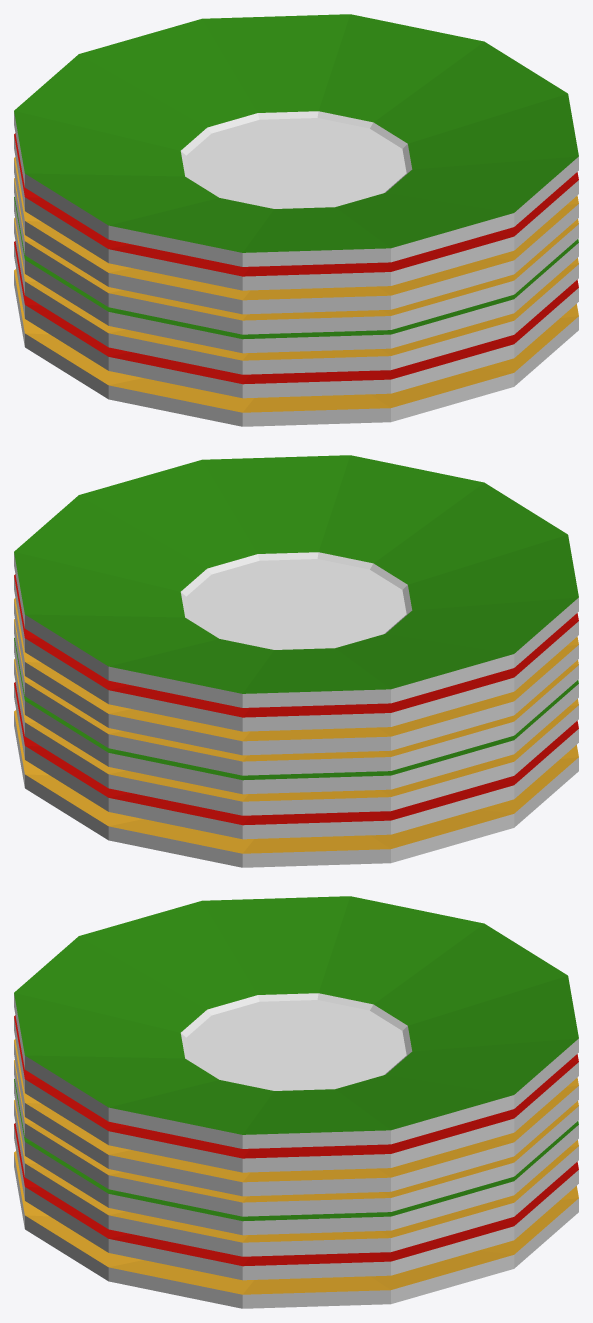
File: C_Plates_Medium.fbx
3 renders of one model, top to bottom at view 1: azimuth 30°, elevation 25°; view 2: azimuth 150°, elevation 25°; view 3: azimuth 270°, elevation 25°, orthographic.
Parts seen in each view (by area): view 1: C_Plates_Medium; view 2: C_Plates_Medium; view 3: C_Plates_Medium.
Part boxes in pixels (x1,y1,x2,y2): C_Plates_Medium: [14, 14, 578, 426]; C_Plates_Medium: [14, 455, 578, 867]; C_Plates_Medium: [14, 896, 578, 1308].
Size of the model in its own units: 112 by 112 by 45.85.
